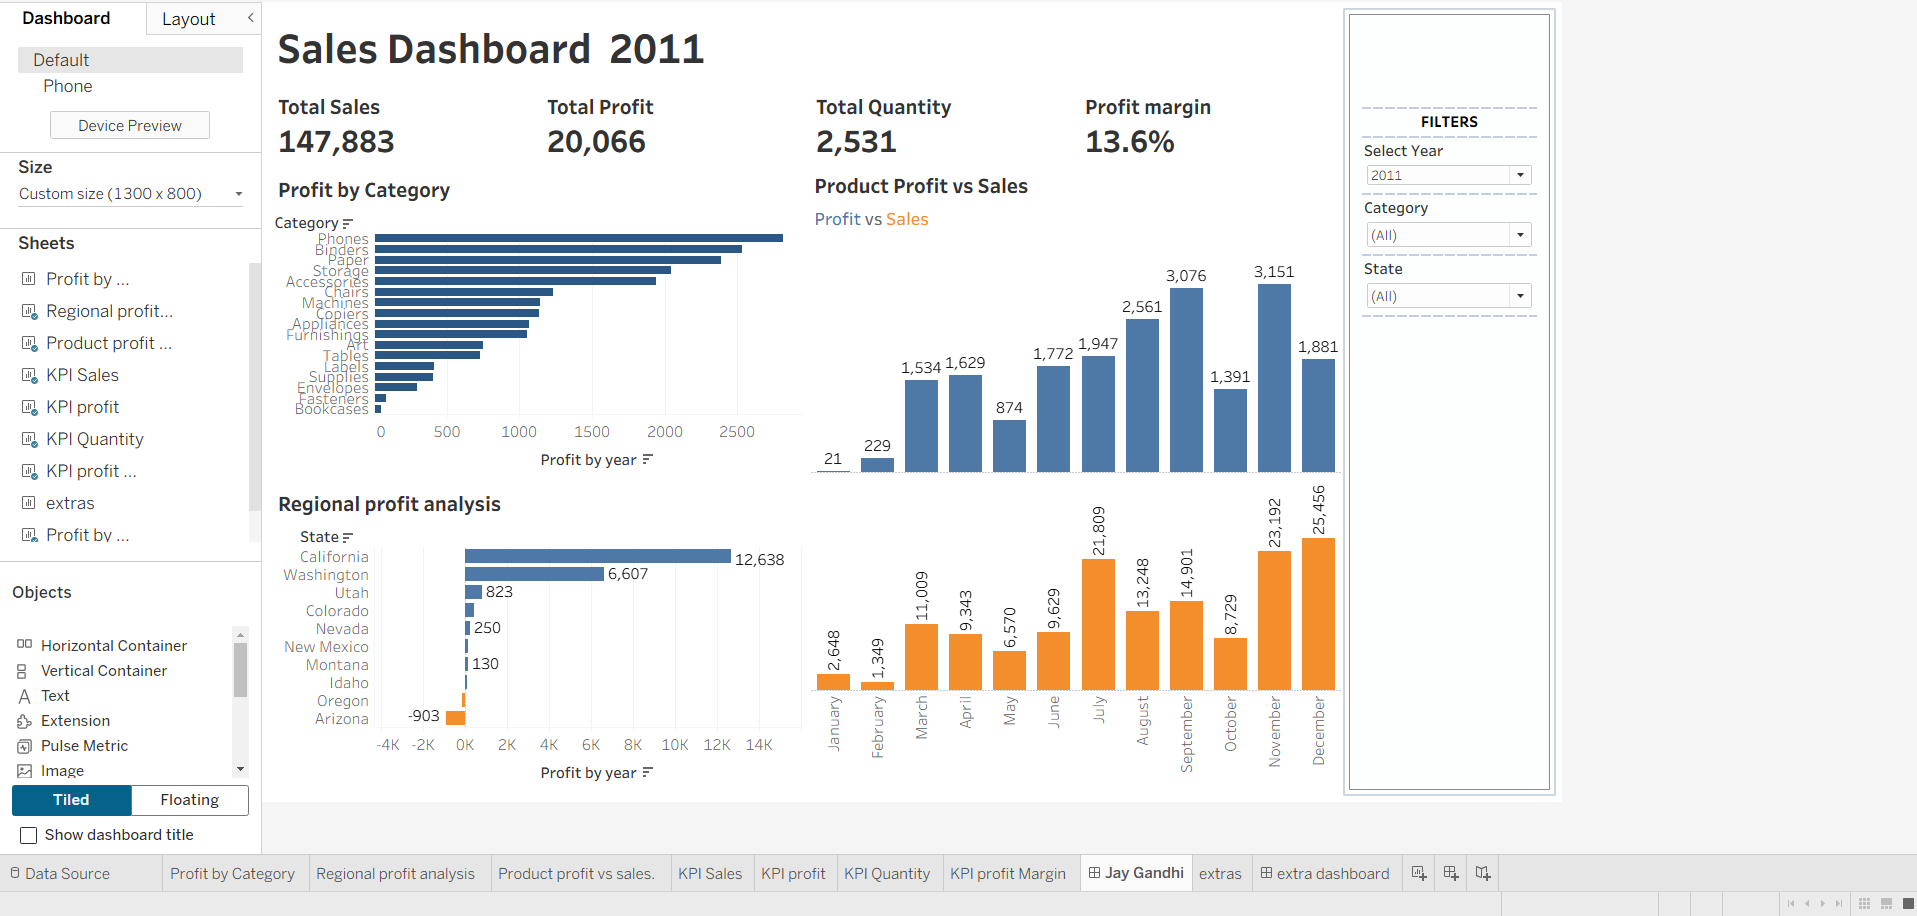

The dashboard page shown, as its layout file describes it:
{"tool":"tableau","page":{"name":"Jay Gandhi","canvas":[1300,800],"ordinal":0},"visuals":[{"type":"text","box":[8,8,1075,74]},{"type":"blank","box":[1098,23,179,82]},{"type":"worksheet","title":"KPI Sales","mark":"Automatic","box":[8,82,269,83]},{"type":"worksheet","title":"KPI profit","mark":"Automatic","box":[277,82,269,83]},{"type":"worksheet","title":"KPI Quantity","mark":"Automatic","box":[546,82,269,83]},{"type":"worksheet","title":"KPI profit Margin","mark":"Automatic","box":[815,82,268,83]},{"type":"text","box":[1098,105,179,29]},{"type":"parameter","param":"[Parameters].[Parameter 2]","box":[1098,134,179,57]},{"type":"worksheet","title":"Profit by Category (2)","mark":"Automatic","rows":["Category"],"cols":["Calculation_1236801077627543553"],"box":[8,165,537,314]},{"type":"text","box":[545.5,165,537.5,35]},{"type":"filter","title":"Profit by Category (2)","param":"[federated.0yc3zuj0cu6m1213de3aq17i0brb].[none:Category:nk]","box":[1098,191,179,61]},{"type":"text","box":[545.5,200,537.5,32]},{"type":"worksheet","title":"Product profit vs sales.","mark":"Bar","rows":["Calculation_1236801077627543553","Profit of 2011 (copy)_1236801077627842562"],"cols":["Order Date"],"box":[545.5,232,537.5,560]},{"type":"filter","title":"Regional profit analysis","param":"[federated.0yc3zuj0cu6m1213de3aq17i0brb].[none:Geography - Split 2:nk]","box":[1098,252,179,61]},{"type":"worksheet","title":"Regional profit analysis","mark":"Bar","rows":["Geography - Split 2"],"cols":["Calculation_1236801077627543553"],"box":[8,479,537,313]}]}

Visuals, with their boxes on the page's 1300x800 design canvas (x1, y1, x2, y2). These are canvas units, not pixel positions in the 1917x916 screenshot, which may show the page scaled, cropped or inside an application window:
text: pyautogui.locateOnScreen(8, 8, 1083, 82)
blank: pyautogui.locateOnScreen(1098, 23, 1277, 105)
"KPI Sales" worksheet: pyautogui.locateOnScreen(8, 82, 277, 165)
"KPI profit" worksheet: pyautogui.locateOnScreen(277, 82, 546, 165)
"KPI Quantity" worksheet: pyautogui.locateOnScreen(546, 82, 815, 165)
"KPI profit Margin" worksheet: pyautogui.locateOnScreen(815, 82, 1083, 165)
text: pyautogui.locateOnScreen(1098, 105, 1277, 134)
parameter: pyautogui.locateOnScreen(1098, 134, 1277, 191)
"Profit by Category (2)" worksheet: pyautogui.locateOnScreen(8, 165, 545, 479)
text: pyautogui.locateOnScreen(546, 165, 1083, 200)
"Profit by Category (2)" filter: pyautogui.locateOnScreen(1098, 191, 1277, 252)
text: pyautogui.locateOnScreen(546, 200, 1083, 232)
"Product profit vs sales." worksheet (Bar marks): pyautogui.locateOnScreen(546, 232, 1083, 792)
"Regional profit analysis" filter: pyautogui.locateOnScreen(1098, 252, 1277, 313)
"Regional profit analysis" worksheet (Bar marks): pyautogui.locateOnScreen(8, 479, 545, 792)
